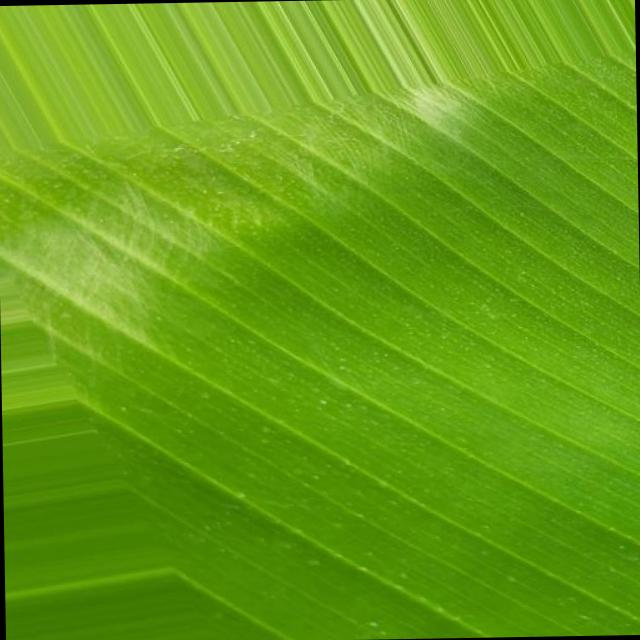Banana_Healthy: (170, 126, 587, 512)
